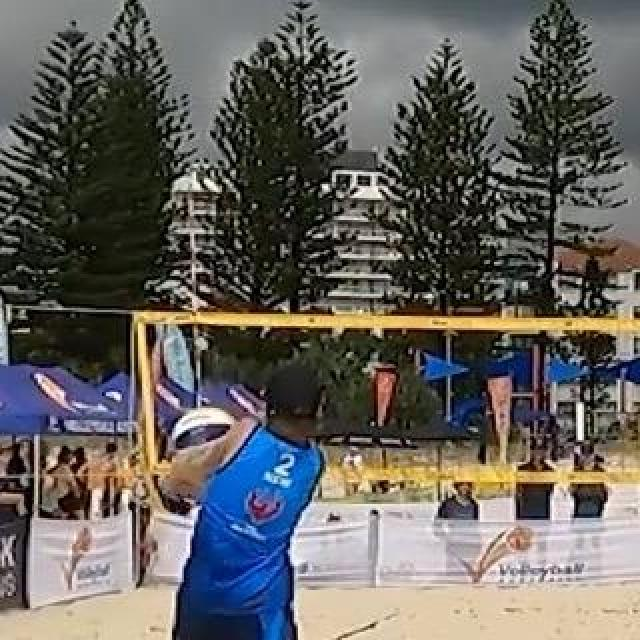volleyball: (166, 409, 248, 479)
